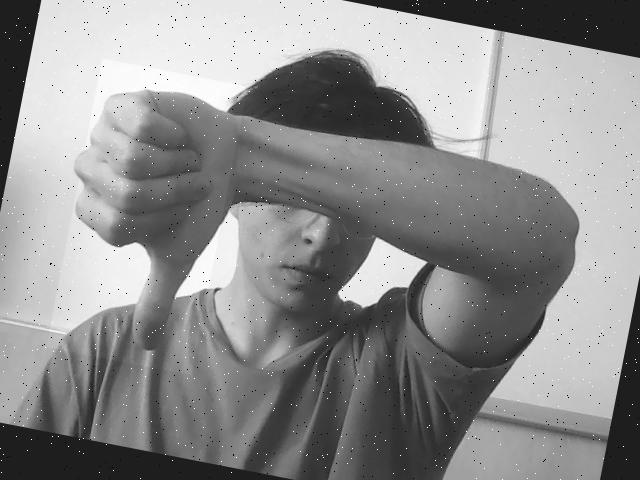bad: (46, 58, 247, 375)
